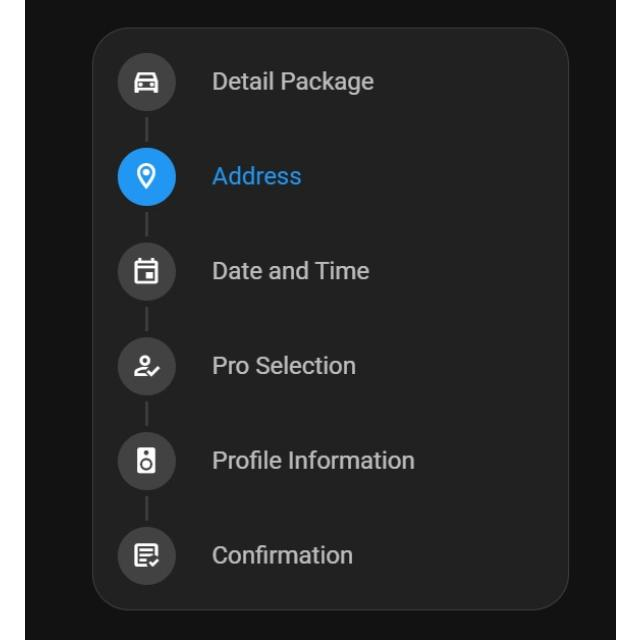VCard: (87, 22, 571, 614)
VTimeline: (109, 50, 423, 588)
